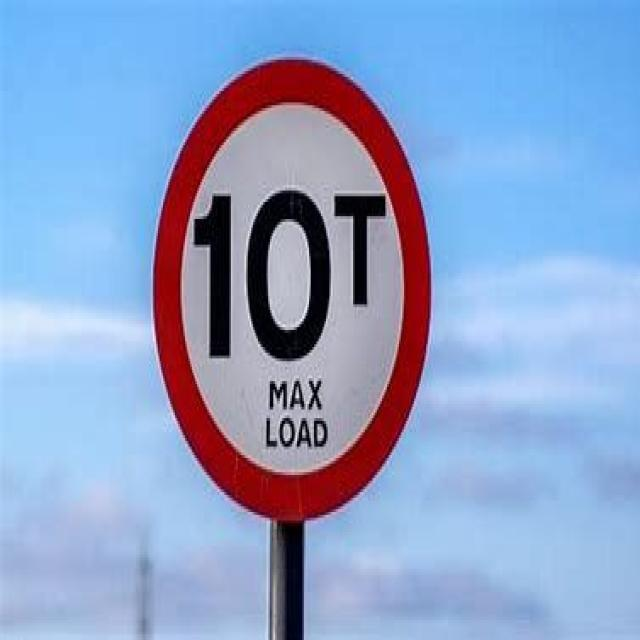load_limit: (151, 57, 431, 518)
